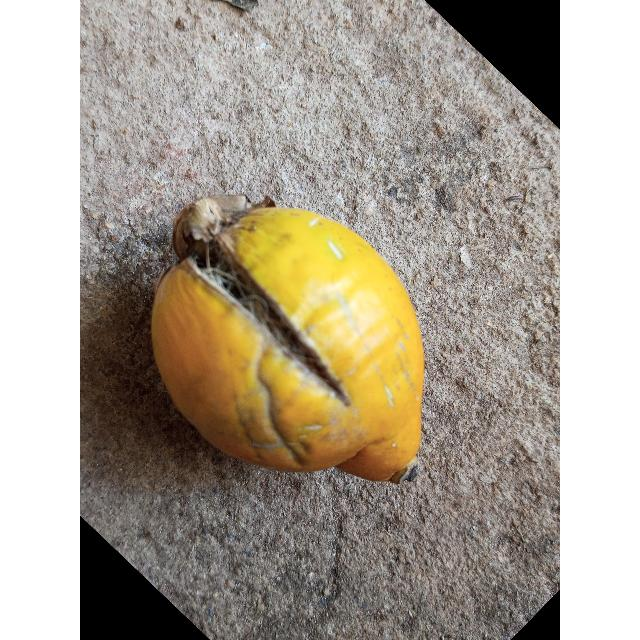damaged: (152, 202, 424, 484)
